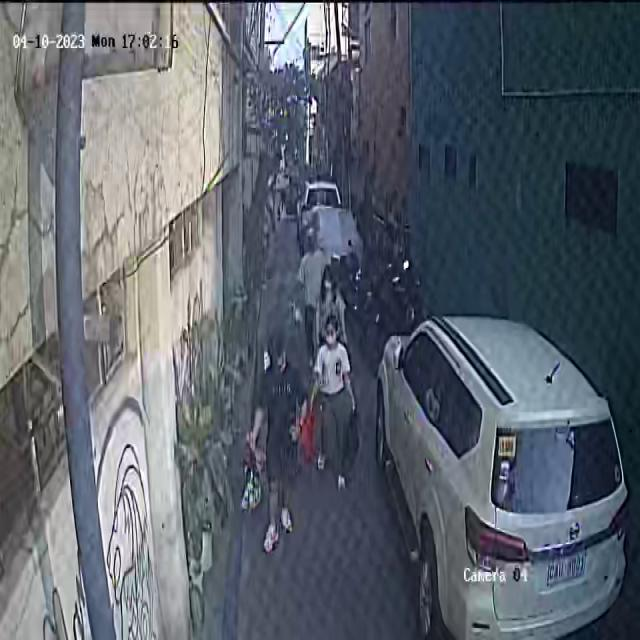human: (242, 332, 308, 552), (301, 313, 360, 490)
trash: (242, 444, 264, 516), (342, 402, 360, 484), (296, 390, 314, 459), (286, 414, 304, 482)
